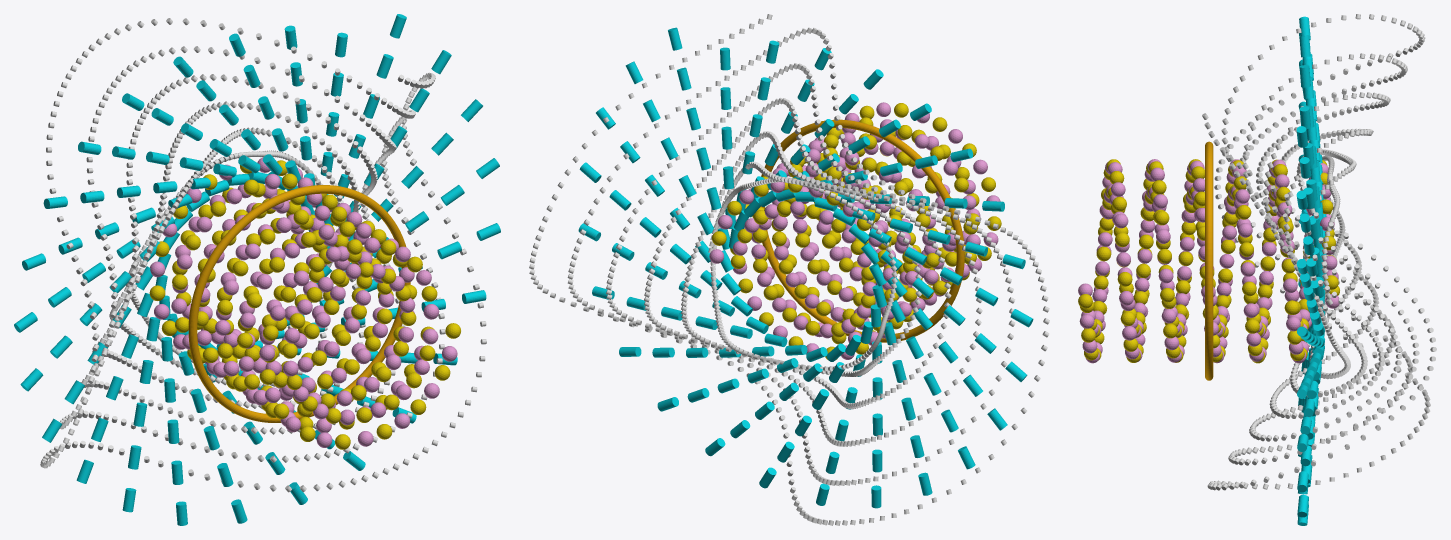
The model's file is universal_spiral_field_art.glb.
3 views of the same model, side by side, from view 1: azimuth 30°, elevation 25°; view 2: azimuth 150°, elevation 25°; view 3: azimuth 270°, elevation 25° (orthographic). The views are drawn at different scales.
Parts seen in each view (by area): view 1: part_1400; view 2: part_1400; view 3: part_1400.
Part boxes in pixels (box(x1,y1,x2,y2)): part_1400: box(188, 185, 410, 422); part_1400: box(760, 119, 964, 342); part_1400: box(1205, 141, 1213, 380).
Bounding box in the file's own units: 6.34 × 6.24 × 4.35.
